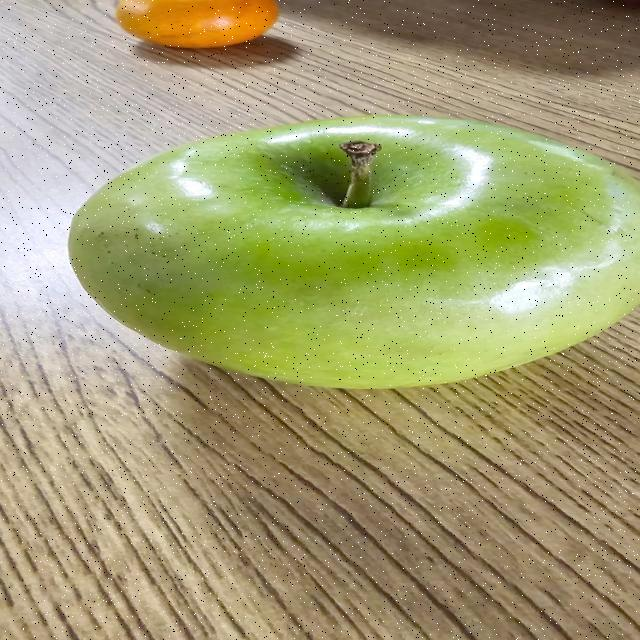Apel Granny Smith: (58, 111, 640, 396)
Jeruk Mandarin: (105, 0, 300, 51)
